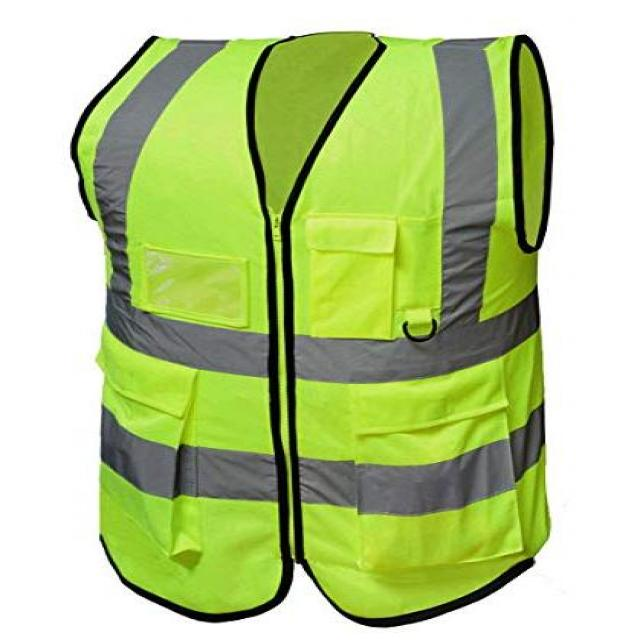Reflective-Jacket: (59, 6, 598, 640)
